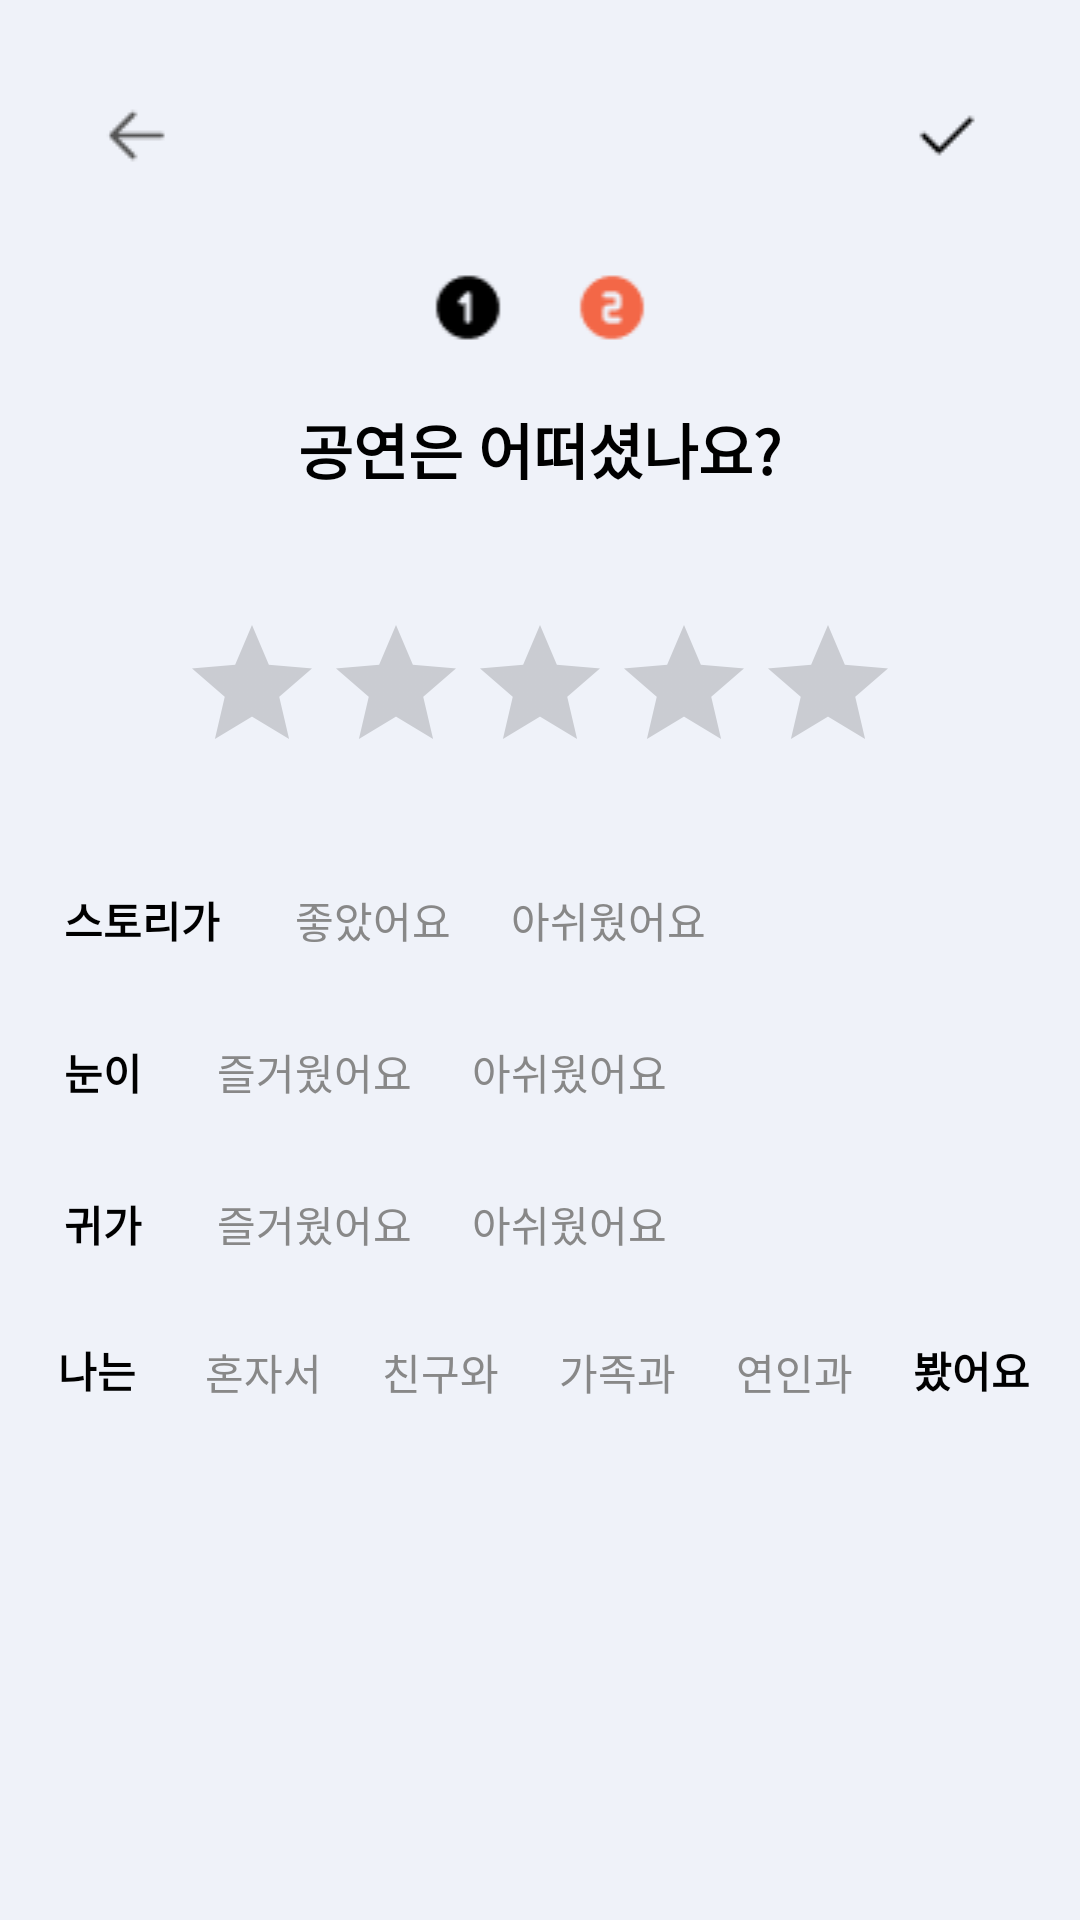

Screen size 1080 × 1920. Icon name, then its center in pixels as [x,y]:
완료: [947,135]
이전으로 이동: [137,136]
